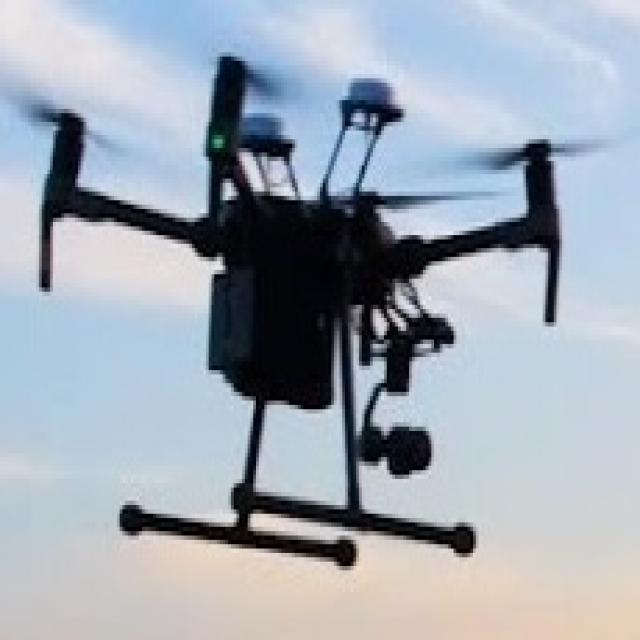drone: (22, 35, 628, 587)
